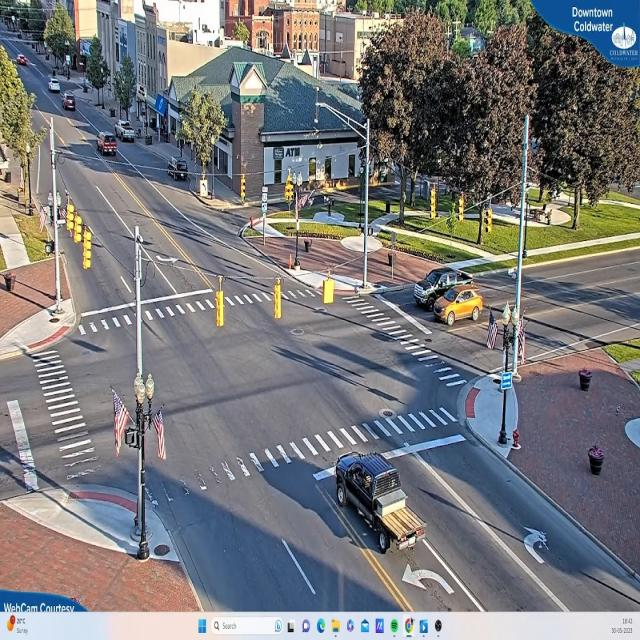car: (332, 448, 411, 552), (414, 263, 462, 312), (433, 286, 484, 328), (118, 123, 136, 143), (48, 78, 62, 95), (64, 94, 76, 112)
truck: (94, 130, 117, 156)
